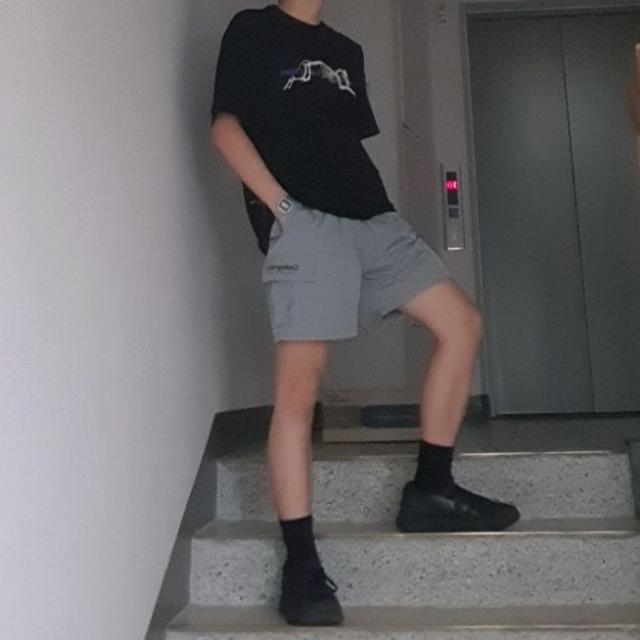shortpants: (262, 190, 455, 342)
shortsleeve: (208, 6, 402, 254)
